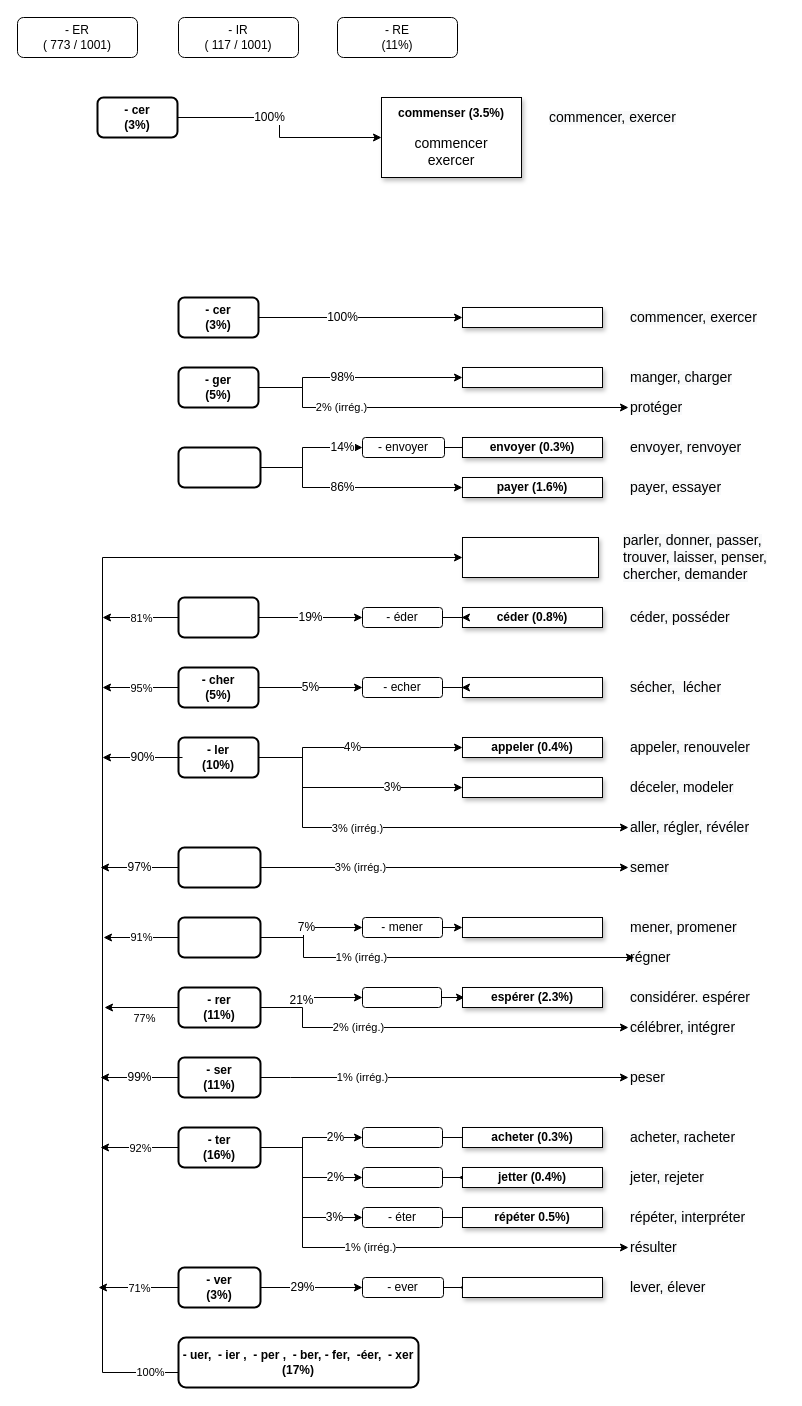
This 802x1406 diagram has some shape labels left out. The centre of each missing label's shape, as x and y in pixels:
- acheter: pixel 402 1137
- der (4%): pixel 218 617
- jetter: pixel 402 1177
- mer (4%): pixel 219 867
- ner (9%): pixel 219 937
- yer (2%): pixel 219 467
- érer: pixel 402 997
commenser (3.5%): pixel 533 318
lever (0.9%): pixel 533 1288
manger (5.2%): pixel 533 378
mener (0.6%): pixel 533 928
parler (81.4%): pixel 531 558
peler (0.3%): pixel 533 788
sécher (0.3%): pixel 533 688
